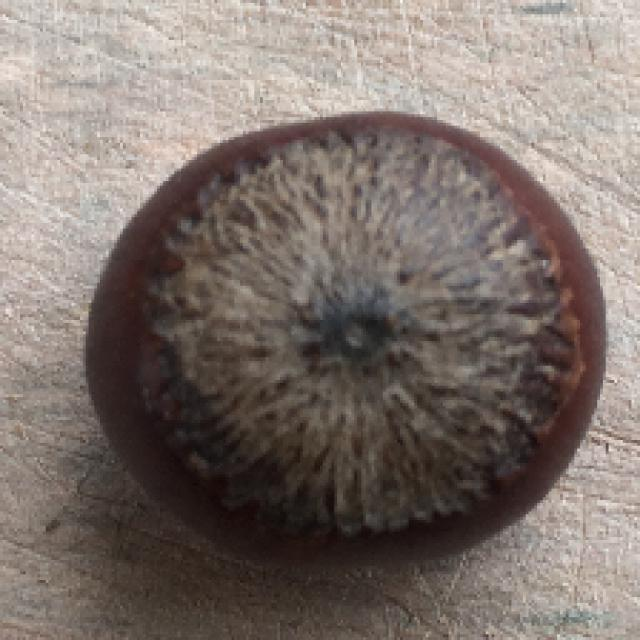DamagedHazelnut: (79, 120, 608, 568)
